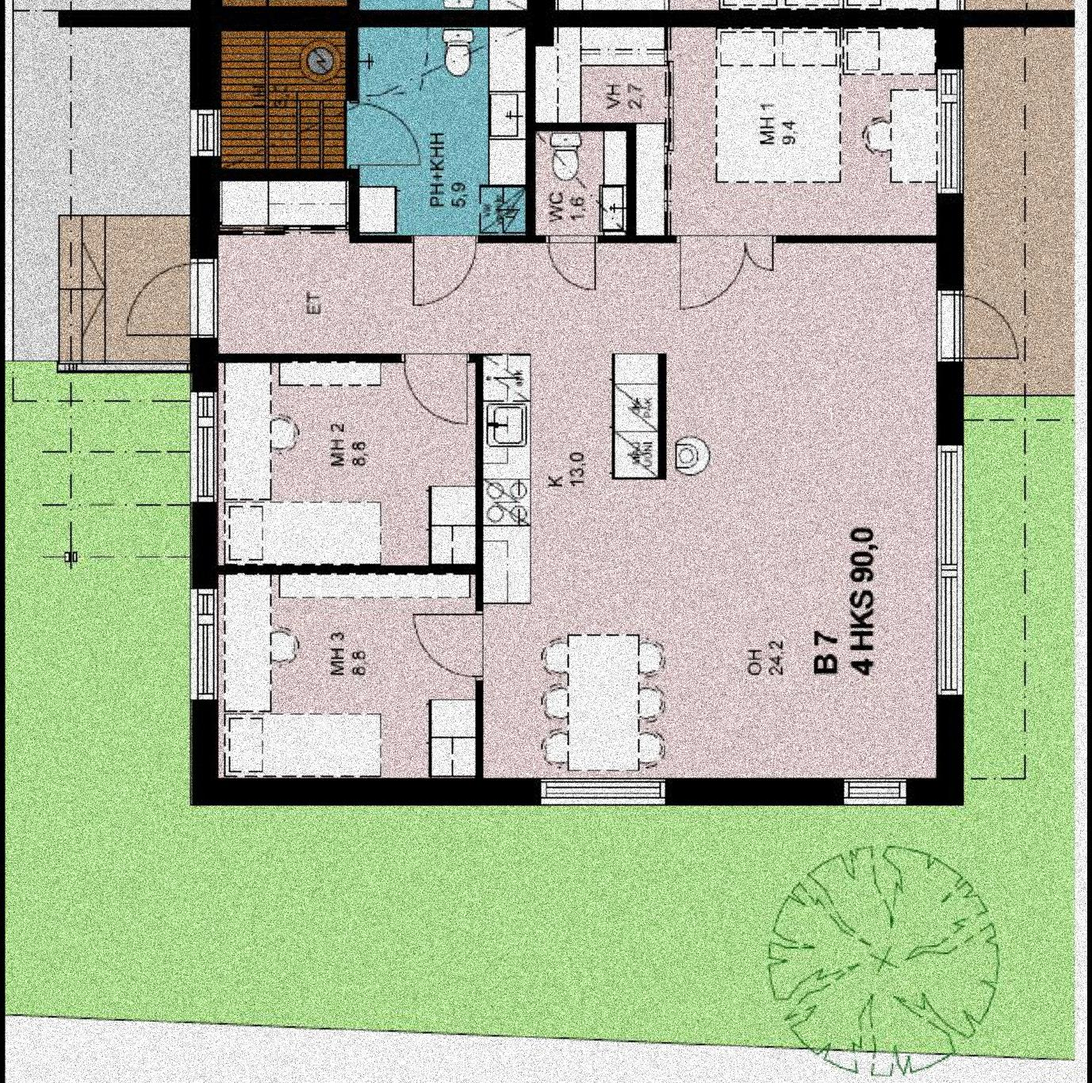door: (667, 232, 774, 314), (121, 263, 212, 350), (930, 290, 1027, 366), (400, 228, 485, 314), (395, 604, 483, 686), (393, 343, 474, 428), (342, 100, 421, 167), (543, 231, 596, 305)
window: (936, 440, 963, 696), (183, 388, 220, 509), (186, 591, 224, 704), (546, 775, 662, 808), (935, 71, 966, 194), (186, 97, 226, 171), (838, 778, 902, 808)
zone: (221, 240, 933, 788), (669, 29, 940, 240), (216, 358, 477, 571), (221, 573, 479, 778), (357, 23, 527, 235), (534, 29, 662, 235), (224, 25, 345, 227), (56, 214, 191, 368)
